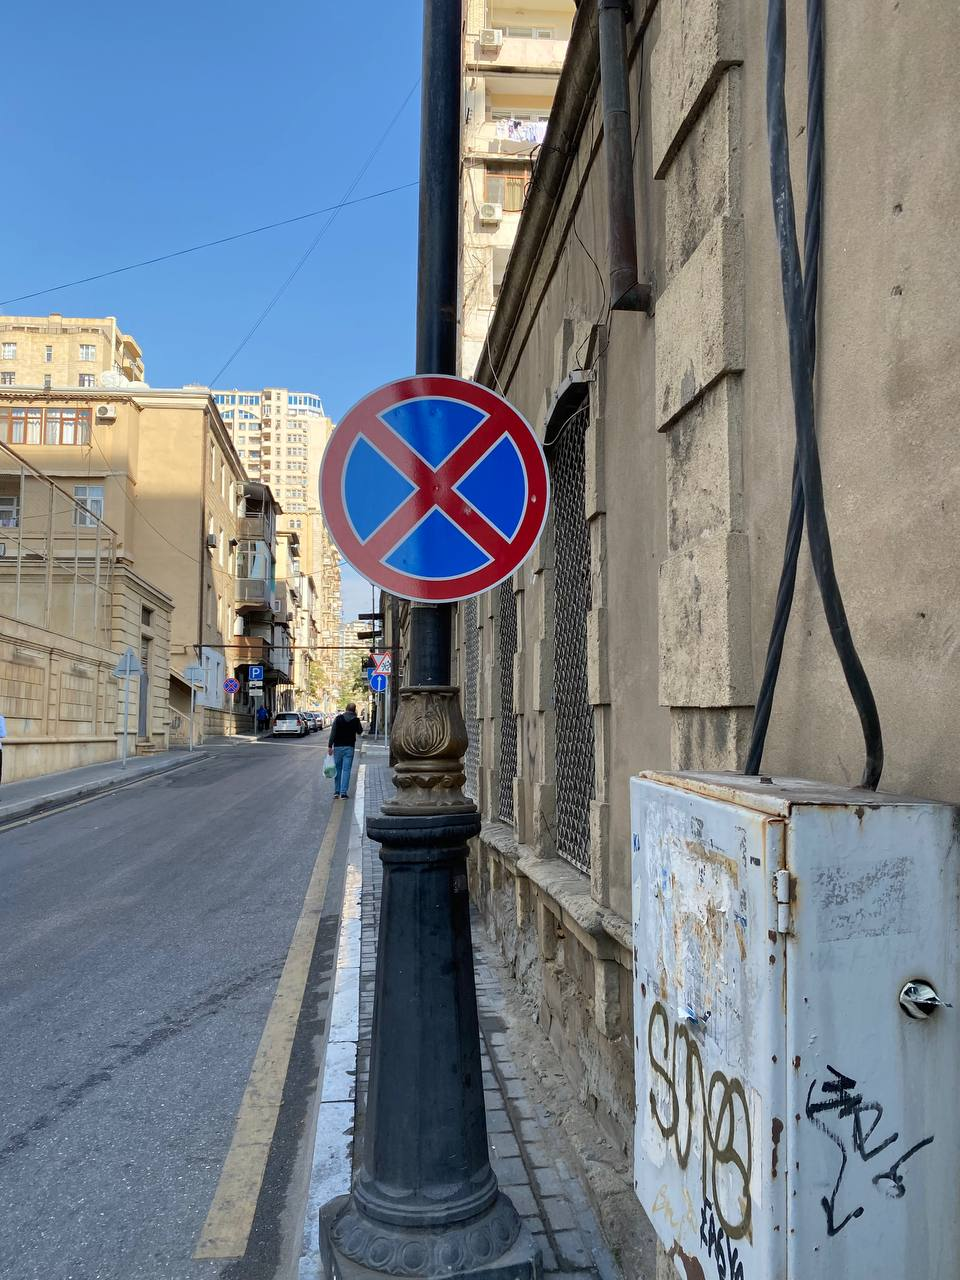No Parking: (318, 373, 551, 605)
